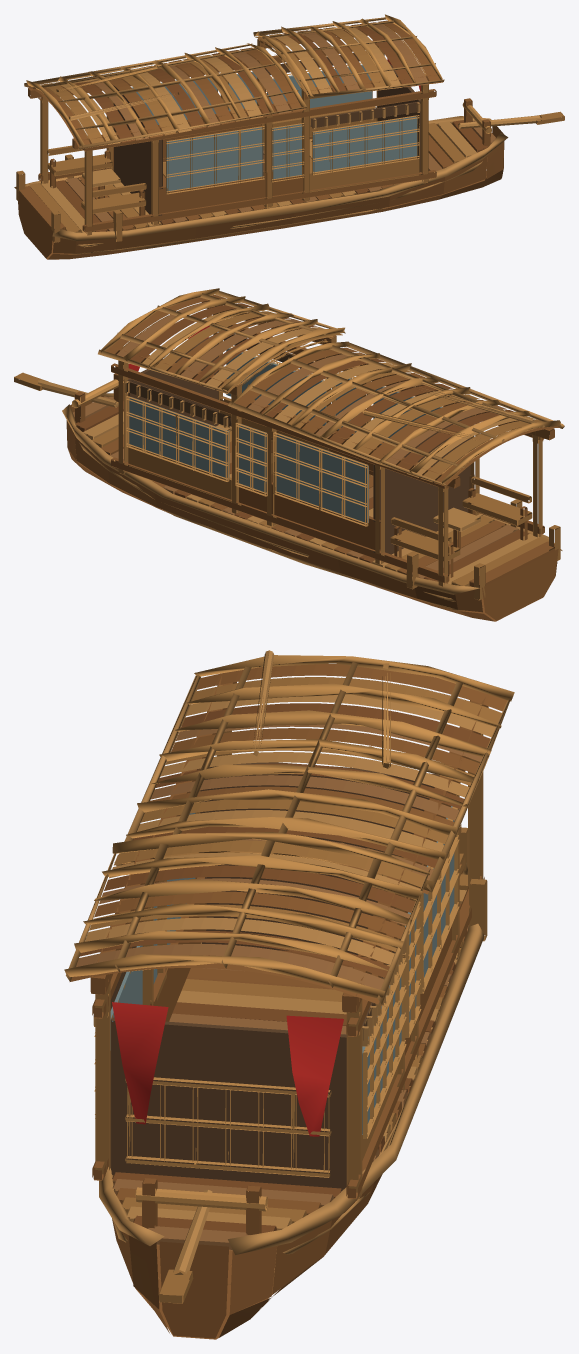
File: redboat-object.glb
3 renders of one model, top to bottom at view 1: azimuth 30°, elevation 25°; view 2: azimuth 150°, elevation 25°; view 3: azimuth 270°, elevation 25°, orthographic. The views are drawn at different scales.
Parts seen in each view (by area): view 1: redboat-object-landmark; view 2: redboat-object-landmark; view 3: redboat-object-landmark.
Boxes of the visible parts, <box> form: redboat-object-landmark: <box>14,14,564,259</box>; redboat-object-landmark: <box>14,288,564,621</box>; redboat-object-landmark: <box>64,650,514,1339</box>.
Size of the model in its own units: 1 by 0.3081 by 0.3974.
